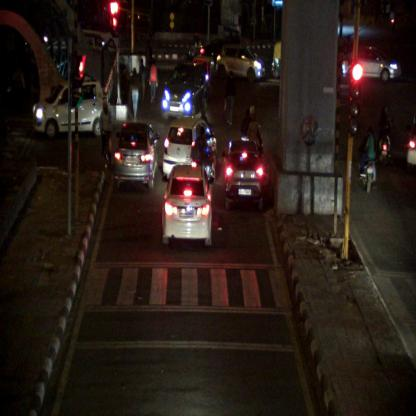car: (161, 165, 215, 248), (32, 79, 104, 137), (163, 116, 219, 181), (113, 123, 160, 188), (160, 58, 208, 121), (222, 140, 265, 210), (341, 47, 400, 81), (216, 42, 264, 82)
motorcycle: (360, 128, 376, 193), (378, 106, 392, 164)
